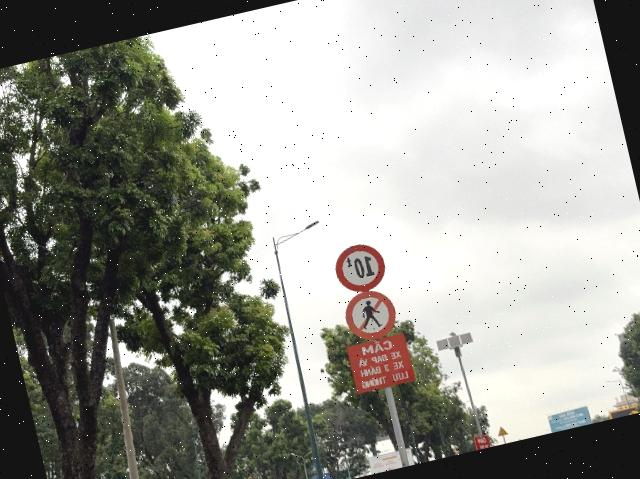cam-nguoi-di-bo: (340, 286, 400, 344)
han-che-trong-luong-xe: (330, 238, 390, 296)
